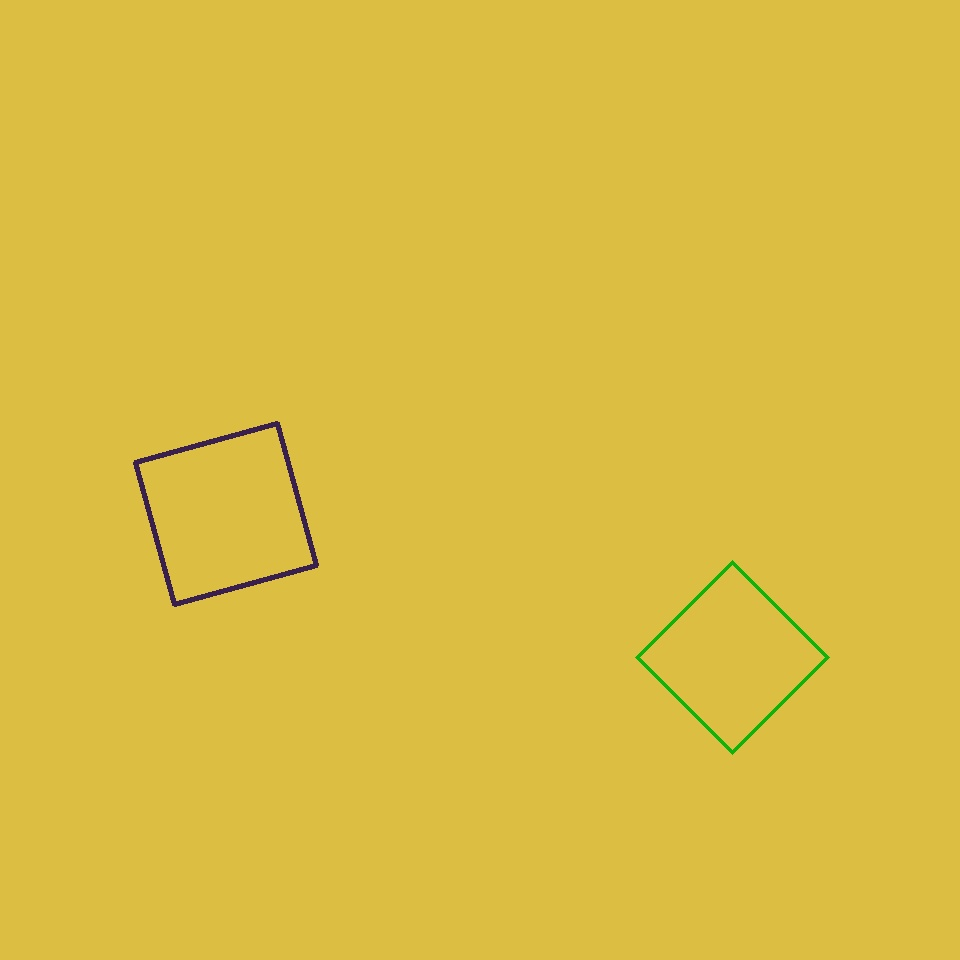square: (637, 562, 827, 752), (136, 424, 316, 604)
